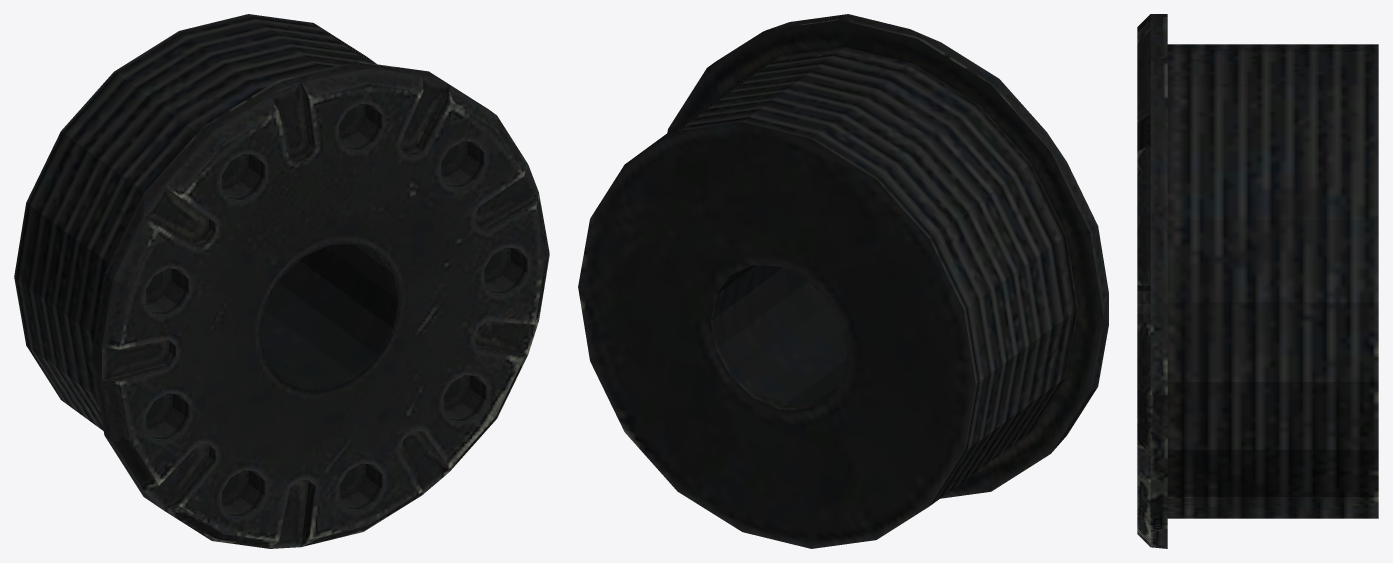
3 renders of one model, left to right at view 1: azimuth 30°, elevation 25°; view 2: azimuth 150°, elevation 25°; view 3: azimuth 270°, elevation 25°, orthographic. The views are drawn at different scales.
Parts seen in each view (by area): view 1: TW_59bffc1f86f77435b128b872_PZ_Import; view 2: TW_59bffc1f86f77435b128b872_PZ_Import; view 3: TW_59bffc1f86f77435b128b872_PZ_Import.
Part boxes in pixels (<box>): TW_59bffc1f86f77435b128b872_PZ_Import: <box>14,14,549,548</box>; TW_59bffc1f86f77435b128b872_PZ_Import: <box>578,14,1108,548</box>; TW_59bffc1f86f77435b128b872_PZ_Import: <box>1137,14,1378,548</box>.
Bounding box in the file's own units: 0.0225 × 0.0101 × 0.0222.
1 material, 1 textured.
